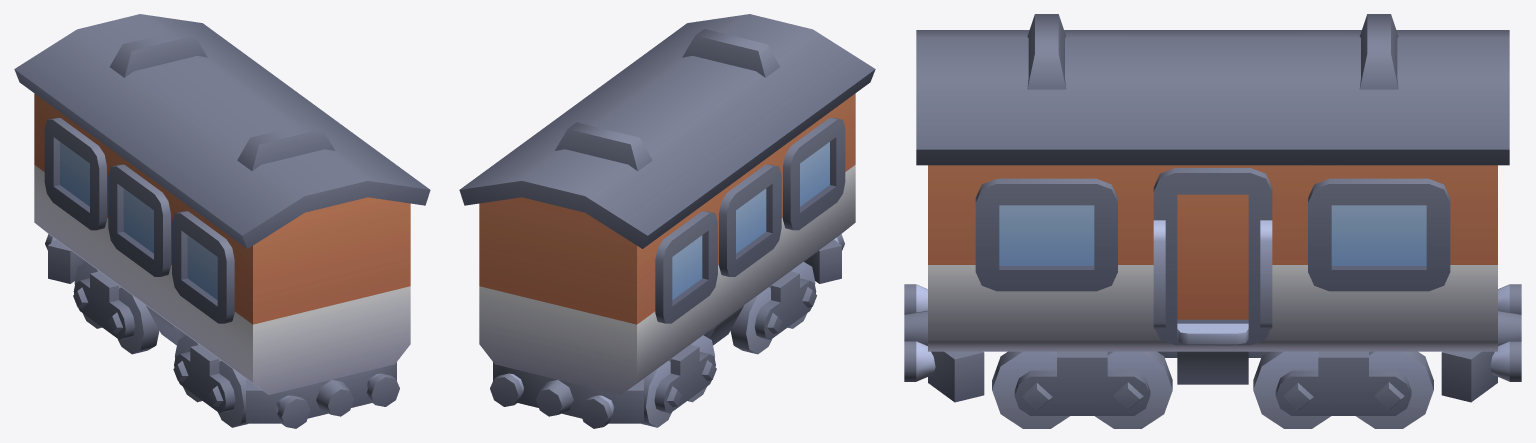
File: kenney-train-train-locomotive-passenger-b.glb
The picture shows the model from 3 angles, left to right: view 1: azimuth 30°, elevation 25°; view 2: azimuth 150°, elevation 25°; view 3: azimuth 270°, elevation 25°; orthographic projection. The views are drawn at different scales.
Visible parts, largest first — view 1: train-locomotive-passenger-b; view 2: train-locomotive-passenger-b; view 3: train-locomotive-passenger-b.
Part boxes in pixels (x1,y1,x2,y2): train-locomotive-passenger-b: (14, 14, 430, 428); train-locomotive-passenger-b: (459, 14, 875, 428); train-locomotive-passenger-b: (904, 14, 1521, 428).
Size of the model in its own units: 1.25 by 1.65 by 2.6.
Materials: 1 (1 with a texture image).
